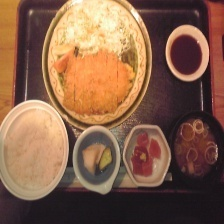sabzi: (171, 115, 224, 181)
